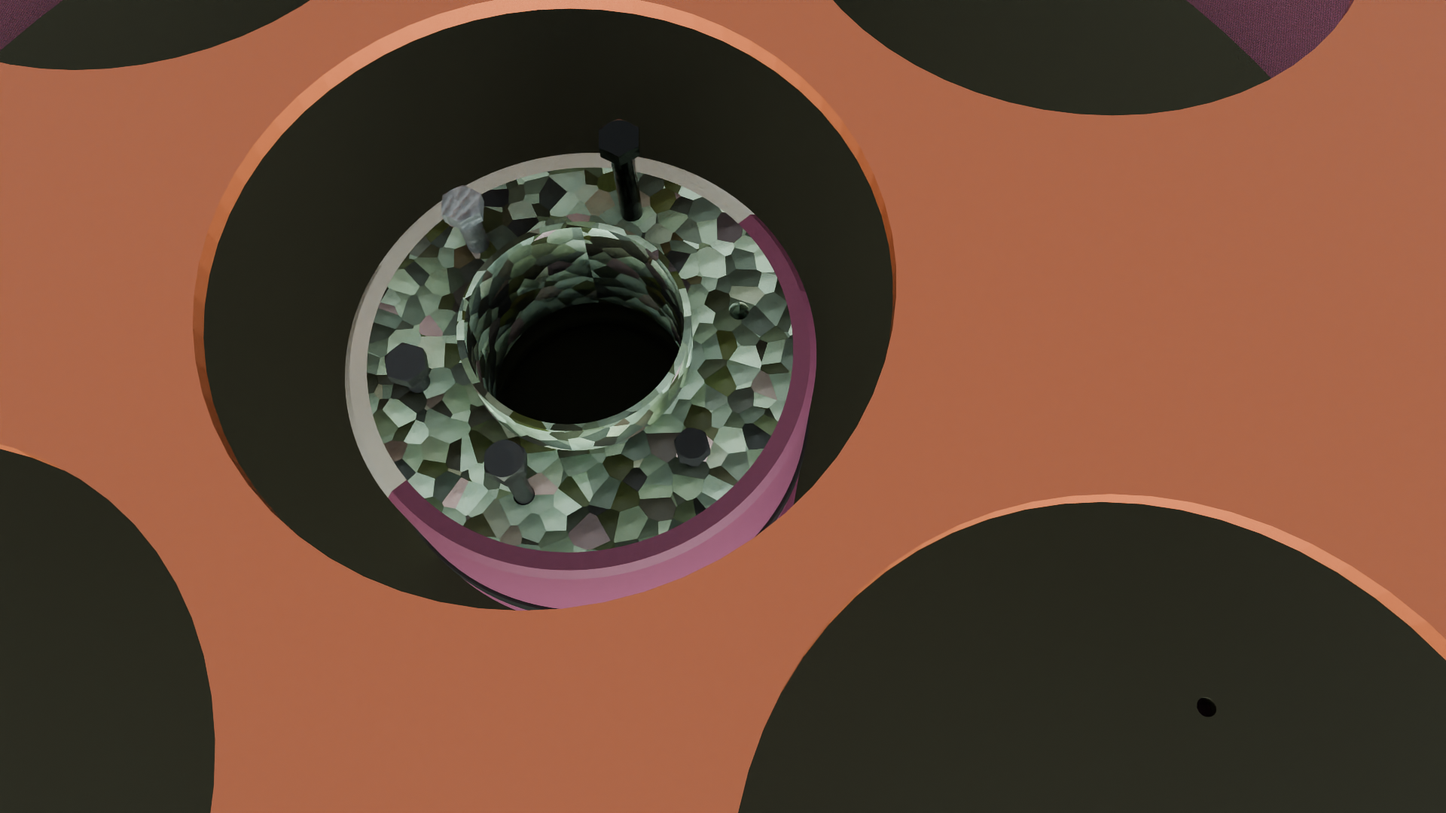bolt: (484, 439, 524, 482), (384, 343, 426, 382), (599, 118, 639, 157), (441, 185, 481, 223), (674, 428, 710, 461)
